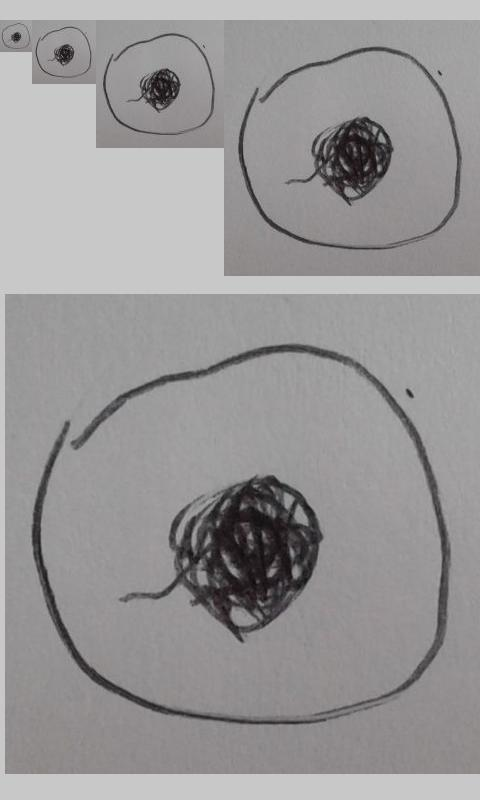radio_button: (27, 339, 455, 730), (237, 45, 463, 252), (102, 31, 216, 137), (34, 25, 92, 79), (1, 22, 31, 50)
